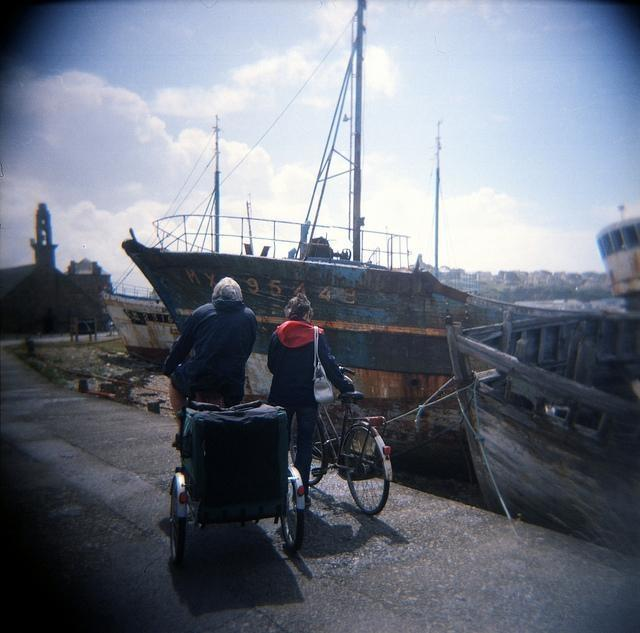bicycle: (303, 380, 391, 522)
